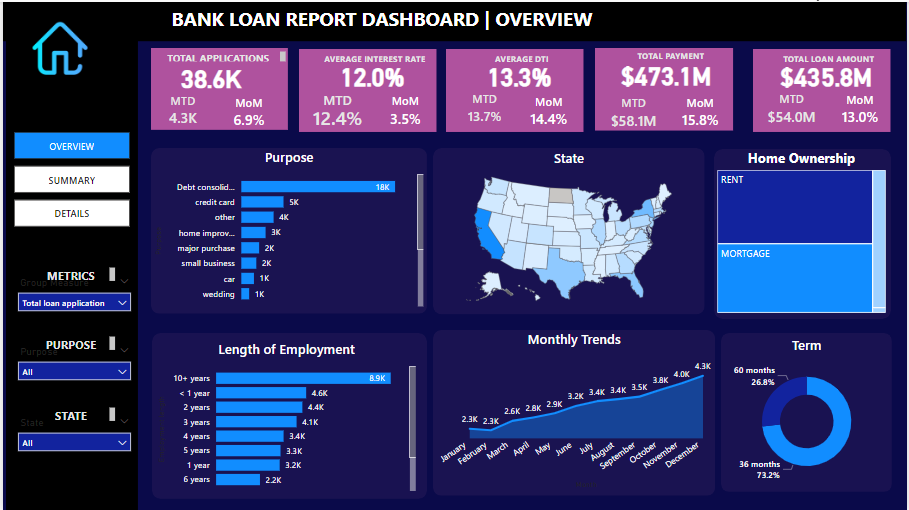

This screenshot's page, from the dashboard's own definition file:
{"tool":"powerbi","page":{"name":"OVERVIEW","canvas":[1280,720],"ordinal":0},"visuals":[{"type":"shape","box":[0,0,1280,55.6],"z":0},{"type":"shape","box":[209.9,65.2,194.2,116.2],"z":0,"group":"g6"},{"type":"shape","box":[419.7,66.6,194.9,117.6],"z":0,"group":"g5"},{"type":"shape","box":[628,66.6,194.9,117.6],"z":0,"group":"g2"},{"type":"shape","box":[1063.5,66.6,194.9,117.6],"z":0,"group":"g1"},{"type":"slicer","fields":{"Values":["Group Measure.Group Measure"]},"box":[11.4,384.3,180,70],"z":0,"group":"g7"},{"type":"slicer","fields":{"Values":["bank_loan_data.purpose"]},"box":[11.4,481.5,180,70],"z":0,"group":"g8"},{"type":"slicer","fields":{"Values":["bank_loan_data.address_state"]},"box":[11.4,582.9,180,70],"z":0,"group":"g10"},{"type":"textbox","box":[209.7,0,654.3,55.6],"z":1000},{"type":"shape","box":[838.6,65.2,195.7,117.1],"z":1000,"group":"g9"},{"type":"card","fields":{"Values":["bank_loan_data.average interest rate"]},"box":[447.9,78.2,150.6,50.2],"z":1000,"group":"g5"},{"type":"card","fields":{"Values":["bank_loan_data.Average dti"]},"box":[656.2,78.2,150.6,50.2],"z":1000,"group":"g2"},{"type":"card","fields":{"Values":["bank_loan_data.total funded amount"]},"box":[1091.7,78.2,150.6,50.2],"z":1000,"group":"g1"},{"type":"card","fields":{"Values":["bank_loan_data.Total Loan Application"]},"box":[230,86.3,130.4,41.1],"z":1000,"group":"g6"},{"type":"textbox","box":[37.1,371.4,127.1,30],"z":1000,"group":"g7"},{"type":"textbox","box":[37.1,468.6,127.1,30],"z":1000,"group":"g8"},{"type":"shape","box":[1017.6,469.1,242.4,225.4],"z":1000,"group":"g11"},{"type":"textbox","box":[37.1,570,127.1,30],"z":1000,"group":"g10"},{"type":"textbox","box":[213,64.9,192.8,24.1],"z":2000,"group":"g6"},{"type":"textbox","box":[419.7,66.6,215,28.6],"z":2000,"group":"g5"},{"type":"textbox","box":[628,66.6,215,28.6],"z":2000,"group":"g2"},{"type":"group","id":"g1","title":"Group 1","box":[1063,66.6,216.9,117.6],"z":2000,"group":"g15"},{"type":"textbox","box":[1063.5,66.6,215,28.6],"z":2000,"group":"g1"},{"type":"card","fields":{"Values":["bank_loan_data.total amount received"]},"box":[864.6,77.6,150.2,49.6],"z":2000,"group":"g9"},{"type":"shape","box":[609.7,206.8,385.3,236],"z":2000},{"type":"shape","box":[1008.1,208.1,250.9,240.9],"z":2000,"group":"g12"},{"type":"group","id":"g2","title":"Group 1","box":[627.5,66.6,215.4,117.6],"z":3000,"group":"g17"},{"type":"card","title":"MTD ","fields":{"Values":["bank_loan_data.MTD interest rate"]},"box":[419.2,126.6,109.4,53.8],"z":3000,"group":"g5"},{"type":"card","title":"MTD ","fields":{"Values":["bank_loan_data.MTD dti"]},"box":[627.5,126.6,109.4,53.8],"z":3000,"group":"g2"},{"type":"card","title":"MTD ","fields":{"Values":["bank_loan_data.MTD total funded amount"]},"box":[1063,126.6,109.4,53.8],"z":3000,"group":"g1"},{"type":"card","title":"MTD ","fields":{"Values":["bank_loan_data.MTD Total Loan Application"]},"box":[209.8,129.3,90.7,52.4],"z":3000,"group":"g6"},{"type":"group","id":"g3","title":"Group 5","box":[609.4,464.9,399.7,235.3],"z":3000},{"type":"group","id":"g4","title":"Group 5","box":[209.8,206.9,391.2,235.3],"z":4000},{"type":"textbox","box":[839.1,62.1,215.4,28.3],"z":5000,"group":"g9"},{"type":"group","id":"g5","title":"Group 1","box":[419.2,66.6,215.4,116.2],"z":5000,"group":"g14"},{"type":"shapeMap","title":"State","fields":{"Value":["bank_loan_data.Total loan application"],"Category":["bank_loan_data.address_state"]},"box":[609.4,208.3,385.5,229.6],"z":5000},{"type":"group","id":"g6","title":"Group 3","box":[209.8,64.9,195.9,116.8],"z":6000},{"type":"shape","box":[210,207.6,391.5,235],"z":6000,"group":"g4"},{"type":"shape","box":[609.6,465.6,400,235],"z":6000,"group":"g3"},{"type":"shape","box":[4.3,0,187.1,720],"z":7000},{"type":"card","title":"MTD ","fields":{"Values":["bank_loan_data.MTD amount received"]},"box":[838.6,131.8,109.4,53.8],"z":7000,"group":"g9"},{"type":"group","id":"g7","title":"Group 3","box":[11.4,371.4,180,82.9],"z":8000},{"type":"shape","box":[211.2,469.1,389.8,235.3],"z":8000,"group":"g13"},{"type":"group","id":"g8","title":"Group 3","box":[11.4,468.6,180,82.9],"z":9000},{"type":"clusteredBarChart","title":"Length of Employment","fields":{"Y":["bank_loan_data.Total loan application"],"Category":["bank_loan_data.emp_length"]},"box":[214.1,478.5,375.7,219.4],"z":9000,"group":"g13"},{"type":"group","id":"g9","title":"Group 2","box":[838.6,62.1,216,123.4],"z":10000,"group":"g16"},{"type":"donutChart","title":"Term","fields":{"Y":["bank_loan_data.Total loan application"],"Category":["bank_loan_data.term"]},"box":[1024.4,473.2,228.7,217.2],"z":10000,"group":"g11"},{"type":"group","id":"g10","title":"Group 3","box":[11.4,570,180,82.9],"z":10000},{"type":"card","title":"MoM","fields":{"Values":["bank_loan_data.MoM loan Application"]},"box":[306.1,131.8,85,52.4],"z":11000},{"type":"clusteredBarChart","title":"Purpose","fields":{"Y":["bank_loan_data.Total loan application"],"Category":["bank_loan_data.purpose"]},"box":[209.8,206.9,391.2,229.6],"z":12000,"group":"g4"},{"type":"areaChart","title":"Monthly Trends","fields":{"Y":["bank_loan_data.Total loan application"],"Category":["Calendar.Month"]},"box":[609.4,464.9,399.7,229.6],"z":12000,"group":"g3"},{"type":"group","id":"g11","title":"Group 4","box":[1017.6,469.1,242.4,225.4],"z":12000},{"type":"group","id":"g12","title":"Group 6","box":[1008.1,207.9,250.9,241.1],"z":13000},{"type":"treemap","title":"Home Ownership","fields":{"Values":["bank_loan_data.Total loan application"],"Group":["bank_loan_data.home_ownership"]},"box":[1008.1,207.9,248,236.7],"z":14000,"group":"g12"},{"type":"group","id":"g13","title":"Group 7","box":[211.2,469.1,389.8,235.3],"z":14000},{"type":"group","id":"g14","title":"Group 8","box":[419.2,66.6,215.4,117.6],"z":15000},{"type":"card","title":"MoM","fields":{"Values":["bank_loan_data.MoM total funded amount"]},"box":[1172.1,127.5,85,52.4],"z":15000,"group":"g15"},{"type":"group","id":"g15","title":"Group 9","box":[1063,66.6,216.9,117.6],"z":16000},{"type":"card","title":"MoM","fields":{"Values":["bank_loan_data.MoM amount received"]},"box":[940,130.9,94.3,52.9],"z":16000,"group":"g16"},{"type":"group","id":"g16","title":"Group 10","box":[838.6,62.1,216,123.4],"z":17000},{"type":"card","title":"MoM","fields":{"Values":["bank_loan_data.MoM dti"]},"box":[725.1,130.9,95.7,52.9],"z":17000,"group":"g17"},{"type":"group","id":"g17","title":"Group 11","box":[627.5,66.6,215.4,117.6],"z":18000},{"type":"image","box":[36.9,12.8,87.9,106.3],"z":19000},{"type":"pageNavigator","box":[15.6,184.3,164.4,136.1],"z":20000},{"type":"card","title":"MoM","fields":{"Values":["bank_loan_data.MoM interest rate"]},"box":[521.6,129,97.8,55.3],"z":24000,"group":"g14"}]}

Visuals, with their boxes in screenshot pixels (x1, y1, x2, y2), scaled from the page's 1280x720 canvas onto the 909x510 screenshot:
shape: <region>0, 0, 908, 39</region>
shape: <region>149, 46, 287, 128</region>
shape: <region>298, 47, 436, 130</region>
shape: <region>446, 47, 584, 130</region>
shape: <region>755, 47, 894, 130</region>
slicer - Group Measure.Group Measure: <region>8, 272, 136, 322</region>
slicer - bank_loan_data.purpose: <region>8, 341, 136, 391</region>
slicer - bank_loan_data.address_state: <region>8, 413, 136, 462</region>
textbox: <region>149, 0, 614, 39</region>
shape: <region>596, 46, 735, 129</region>
card - bank_loan_data.average interest rate: <region>318, 55, 425, 91</region>
card - bank_loan_data.Average dti: <region>466, 55, 573, 91</region>
card - bank_loan_data.total funded amount: <region>775, 55, 882, 91</region>
card - bank_loan_data.Total Loan Application: <region>163, 61, 256, 90</region>
textbox: <region>26, 263, 117, 284</region>
textbox: <region>26, 332, 117, 353</region>
shape: <region>723, 332, 895, 492</region>
textbox: <region>26, 404, 117, 425</region>
textbox: <region>151, 46, 288, 63</region>
textbox: <region>298, 47, 451, 67</region>
textbox: <region>446, 47, 599, 67</region>
"Group 1" group: <region>755, 47, 908, 130</region>
textbox: <region>755, 47, 908, 67</region>
card - bank_loan_data.total amount received: <region>614, 55, 721, 90</region>
shape: <region>433, 146, 707, 314</region>
shape: <region>716, 147, 894, 318</region>
"Group 1" group: <region>446, 47, 599, 130</region>
"MTD " card: <region>298, 90, 375, 128</region>
"MTD " card: <region>446, 90, 523, 128</region>
"MTD " card: <region>755, 90, 833, 128</region>
"MTD " card: <region>149, 92, 213, 129</region>
"Group 5" group: <region>433, 329, 717, 496</region>
"Group 5" group: <region>149, 147, 427, 313</region>
textbox: <region>596, 44, 749, 64</region>
"Group 1" group: <region>298, 47, 451, 129</region>
"State" shapeMap: <region>433, 148, 707, 310</region>
"Group 3" group: <region>149, 46, 288, 129</region>
shape: <region>149, 147, 427, 314</region>
shape: <region>433, 330, 717, 496</region>
shape: <region>3, 0, 136, 509</region>
"MTD " card: <region>596, 93, 673, 131</region>
"Group 3" group: <region>8, 263, 136, 322</region>
shape: <region>150, 332, 427, 499</region>
"Group 3" group: <region>8, 332, 136, 391</region>
"Length of Employment" clusteredBarChart: <region>152, 339, 419, 494</region>
"Group 2" group: <region>596, 44, 749, 131</region>
"Term" donutChart: <region>727, 335, 890, 489</region>
"Group 3" group: <region>8, 404, 136, 462</region>
"MoM" card: <region>217, 93, 278, 130</region>
"Purpose" clusteredBarChart: <region>149, 147, 427, 309</region>
"Monthly Trends" areaChart: <region>433, 329, 717, 492</region>
"Group 4" group: <region>723, 332, 895, 492</region>
"Group 6" group: <region>716, 147, 894, 318</region>
"Home Ownership" treemap: <region>716, 147, 892, 315</region>
"Group 7" group: <region>150, 332, 427, 499</region>
"Group 8" group: <region>298, 47, 451, 130</region>
"MoM" card: <region>832, 90, 893, 127</region>
"Group 9" group: <region>755, 47, 908, 130</region>
"MoM" card: <region>668, 93, 735, 130</region>
"Group 10" group: <region>596, 44, 749, 131</region>
"MoM" card: <region>515, 93, 583, 130</region>
"Group 11" group: <region>446, 47, 599, 130</region>
image: <region>26, 9, 89, 84</region>
pageNavigator: <region>11, 131, 128, 227</region>
"MoM" card: <region>370, 91, 440, 131</region>
